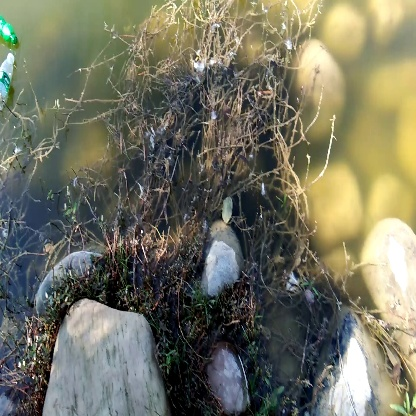grass: (118, 56, 275, 184)
